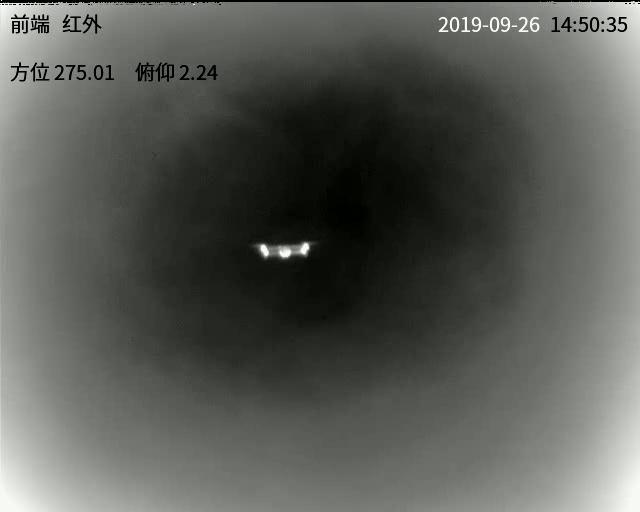DRONE: (258, 242, 310, 260)
